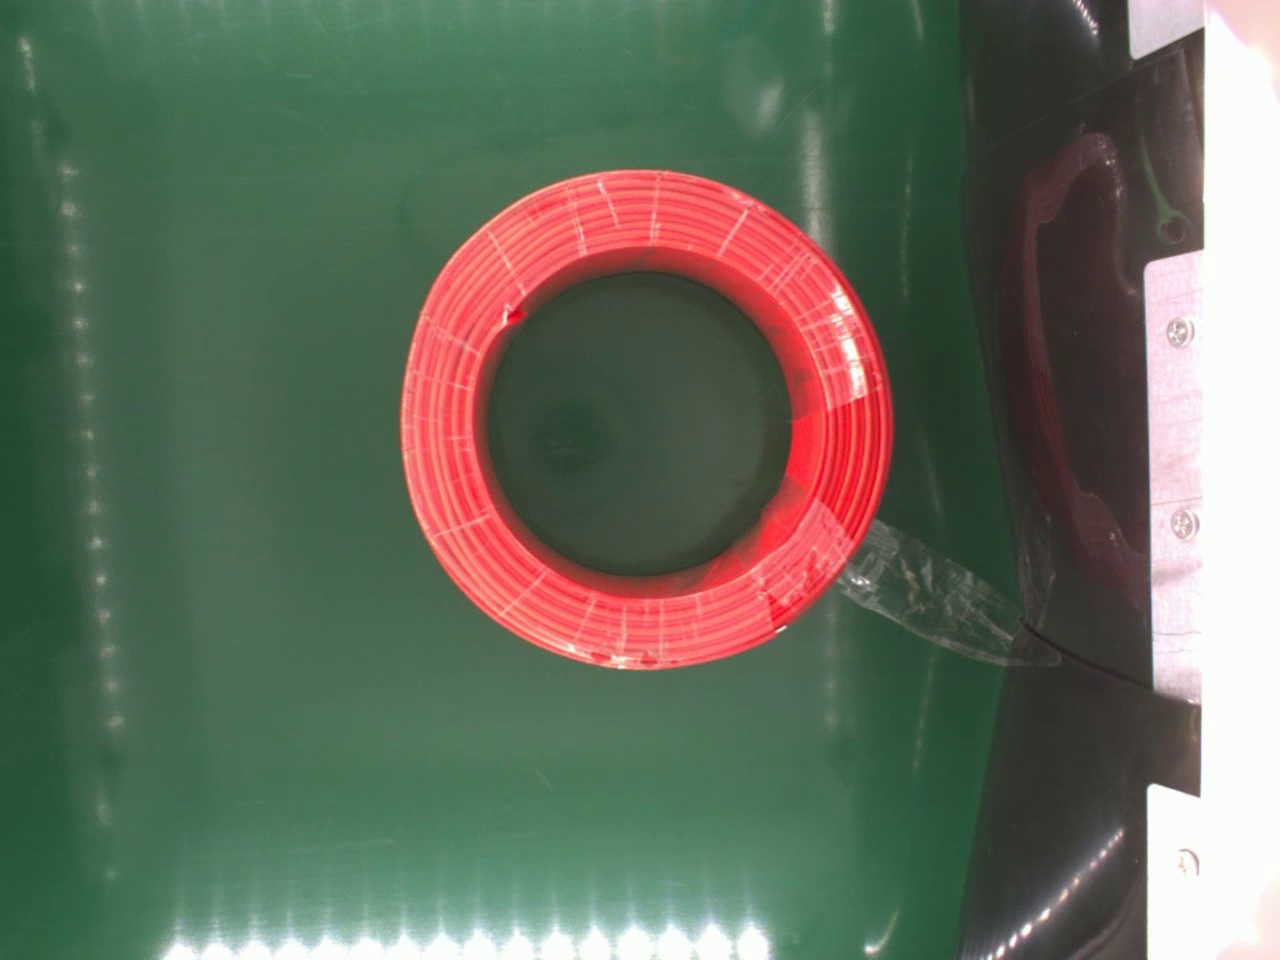red: (398, 165, 894, 678)
